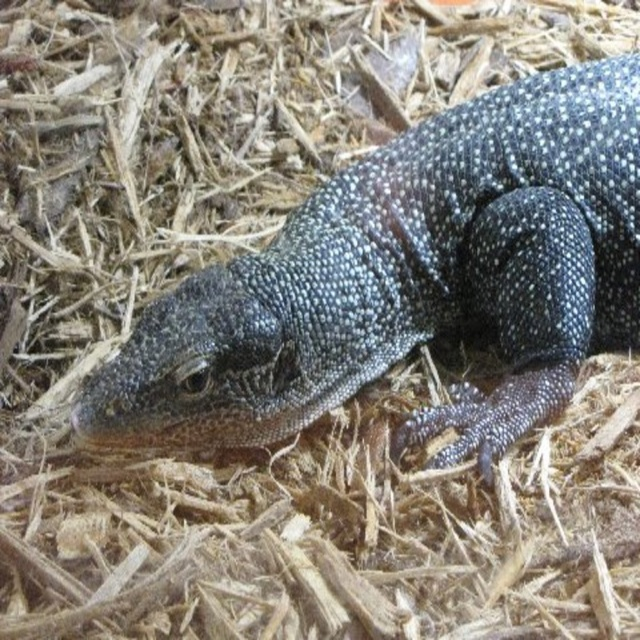Lizard: (68, 52, 640, 491)
